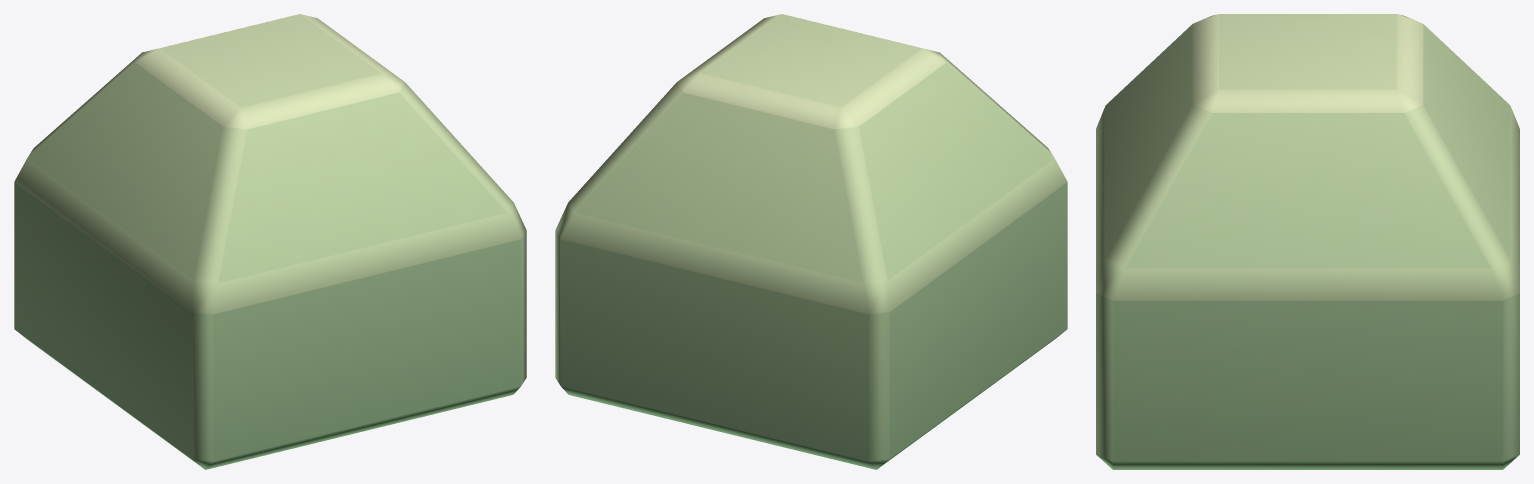
File: block_big.fbx
3 views of the same model, side by side, from view 1: azimuth 30°, elevation 25°; view 2: azimuth 150°, elevation 25°; view 3: azimuth 270°, elevation 25° (orthographic). The views are drawn at different scales.
Visible parts, largest first — view 1: block_big; view 2: block_big; view 3: block_big.
Part boxes in pixels (x1,y1,x2,y2): block_big: (14,14,526,469); block_big: (555,14,1067,469); block_big: (1096,14,1519,469).
Size of the model in its own units: 200 by 175 by 200.
